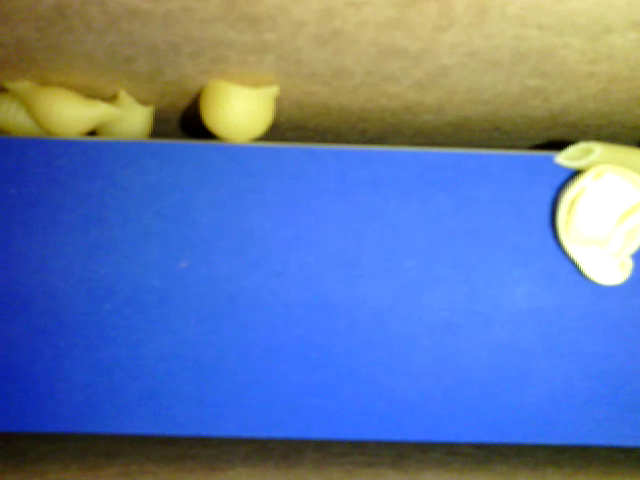penne: (556, 140, 639, 174)
shell: (1, 79, 131, 137), (192, 75, 278, 143), (92, 89, 157, 140), (1, 92, 52, 139)
tortellini: (553, 162, 639, 287)
